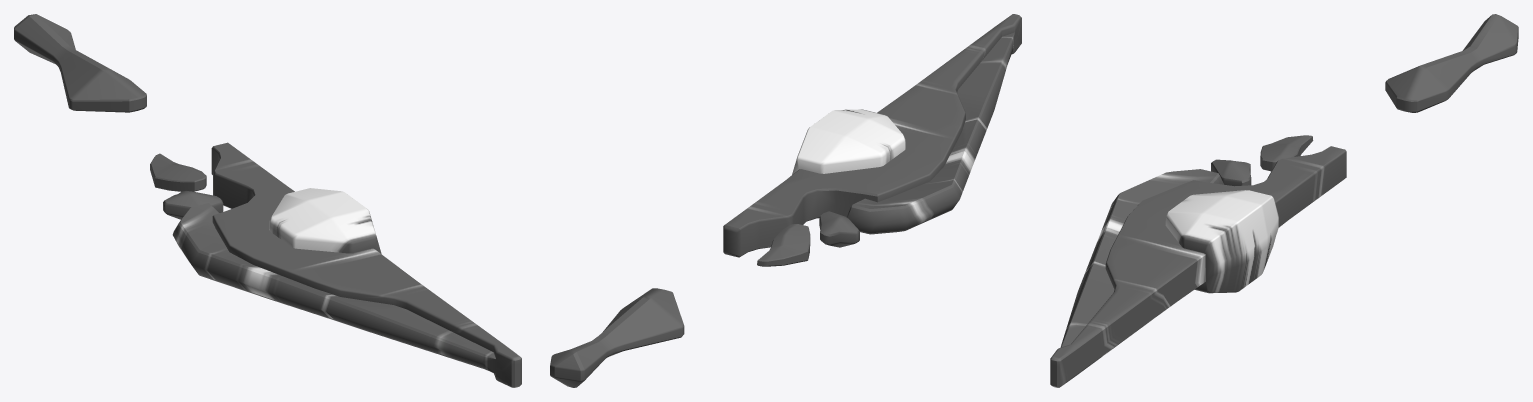
The model's file is eff_ken000_mesh.fbx.
3 views of the same model, side by side, from view 1: azimuth 30°, elevation 25°; view 2: azimuth 150°, elevation 25°; view 3: azimuth 330°, elevation 25° (orthographic). The views are drawn at different scales.
Parts seen in each view (by area): view 1: eff_ken000_mesh; view 2: eff_ken000_mesh; view 3: eff_ken000_mesh.
Boxes of the visible parts, x1,y1,x2,y2 form: eff_ken000_mesh: [14, 14, 521, 387]; eff_ken000_mesh: [550, 14, 1021, 387]; eff_ken000_mesh: [1050, 14, 1518, 387].
Size of the model in its own units: 96.64 by 42.07 by 500.
